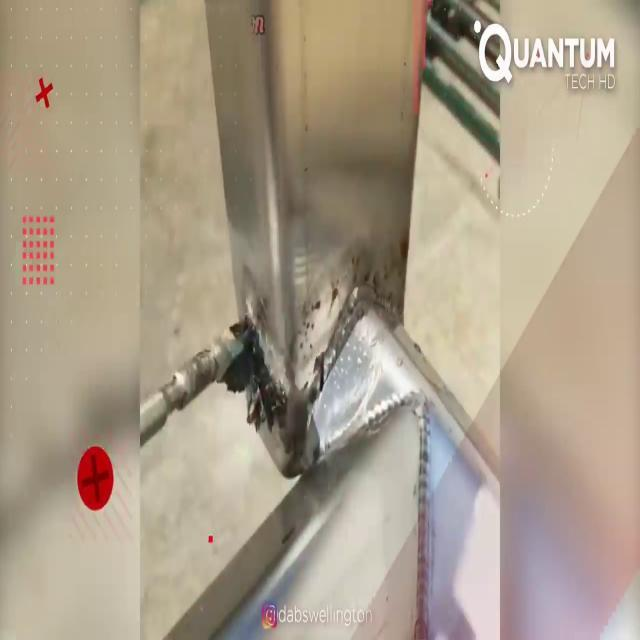Good Weld: (409, 388, 436, 638), (346, 282, 389, 340)
